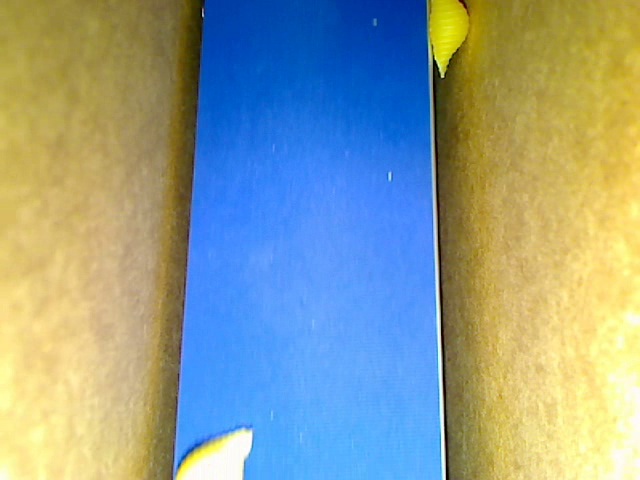shell: (177, 423, 253, 479), (427, 1, 471, 80)
